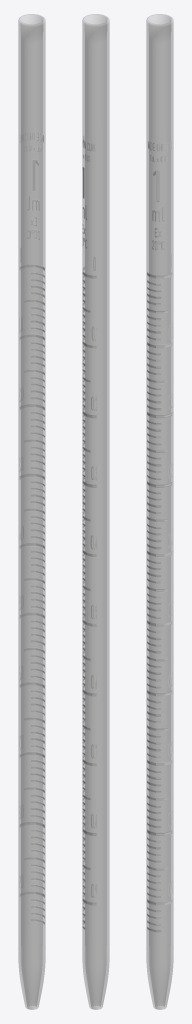
The model's file is pipet1.glb.
3 views of the same model, side by side, from view 1: azimuth 90°, elevation 25°; view 2: azimuth 210°, elevation 25°; view 3: azimuth 270°, elevation 25° (orthographic).
Visible parts, largest first — view 1: pipet, pipet1ml wrap_1003; view 2: pipet, pipet1ml wrap_1003; view 3: pipet, pipet1ml wrap_1003.
Boxes of the visible parts, <box> form: pipet: <box>18,14,45,1009</box>; pipet1ml wrap_1003: <box>19,133,44,923</box>; pipet: <box>82,14,109,1009</box>; pipet1ml wrap_1003: <box>82,136,96,928</box>; pipet: <box>146,14,173,1009</box>; pipet1ml wrap_1003: <box>147,141,172,931</box>.
Bounding box in the file's own units: 0.0829 × 3.29 × 0.0829.
2 materials, 1 textured.
